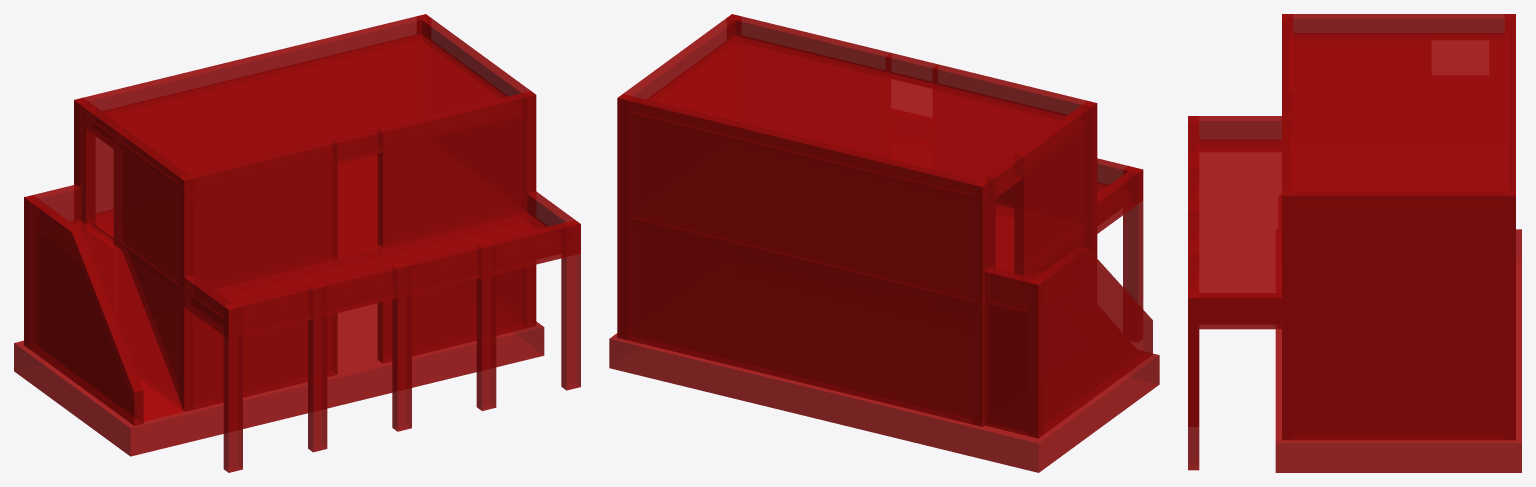
Rendered from SM_Bld_Village_House_03_Collision.fbx.
The picture shows the model from 3 angles, left to right: view 1: azimuth 30°, elevation 25°; view 2: azimuth 150°, elevation 25°; view 3: azimuth 270°, elevation 25°; orthographic projection. The views are drawn at different scales.
Parts seen in each view (by area): view 1: SM_Bld_Village_House_03_Collision; view 2: SM_Bld_Village_House_03_Collision; view 3: SM_Bld_Village_House_03_Collision.
Part boxes in pixels (left/top/right/bottom): SM_Bld_Village_House_03_Collision: left=14, top=14, right=580, bottom=472; SM_Bld_Village_House_03_Collision: left=609, top=14, right=1159, bottom=472; SM_Bld_Village_House_03_Collision: left=1188, top=14, right=1521, bottom=472.
Bounding box in the file's own units: 1124 × 674 × 742.
